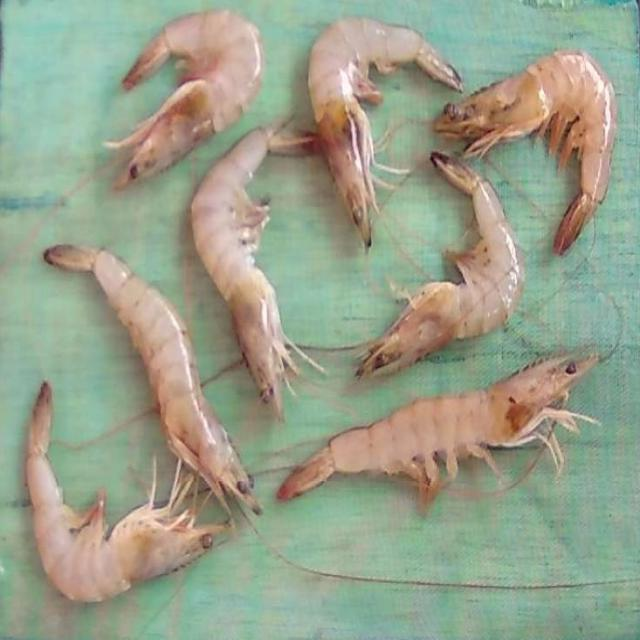shrimp: (43, 245, 259, 513), (277, 355, 599, 509), (24, 383, 228, 603), (358, 151, 525, 377), (434, 50, 617, 253), (308, 18, 463, 248), (190, 126, 297, 418), (107, 10, 263, 189)
